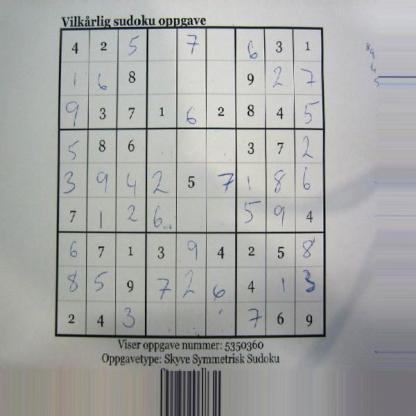sudoku: (52, 26, 328, 340)
